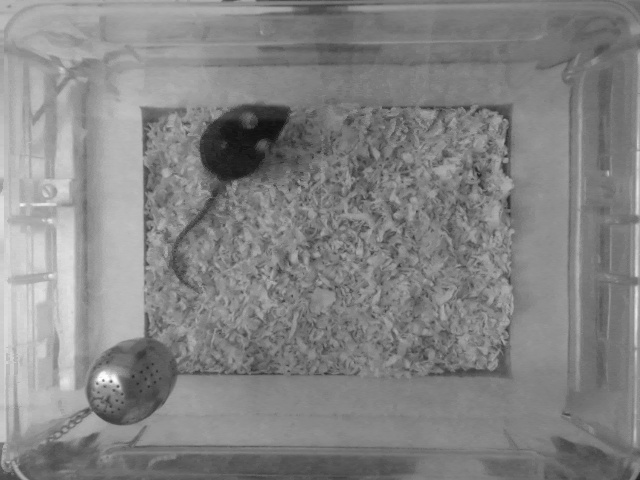mice: (165, 100, 295, 293)
